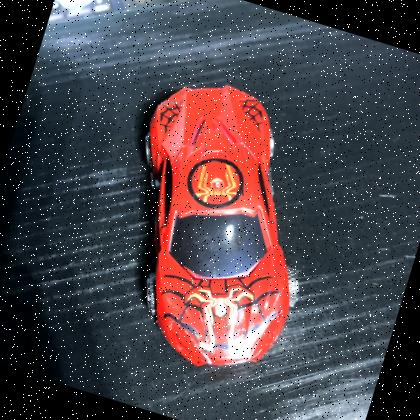Car: (79, 59, 357, 395)
